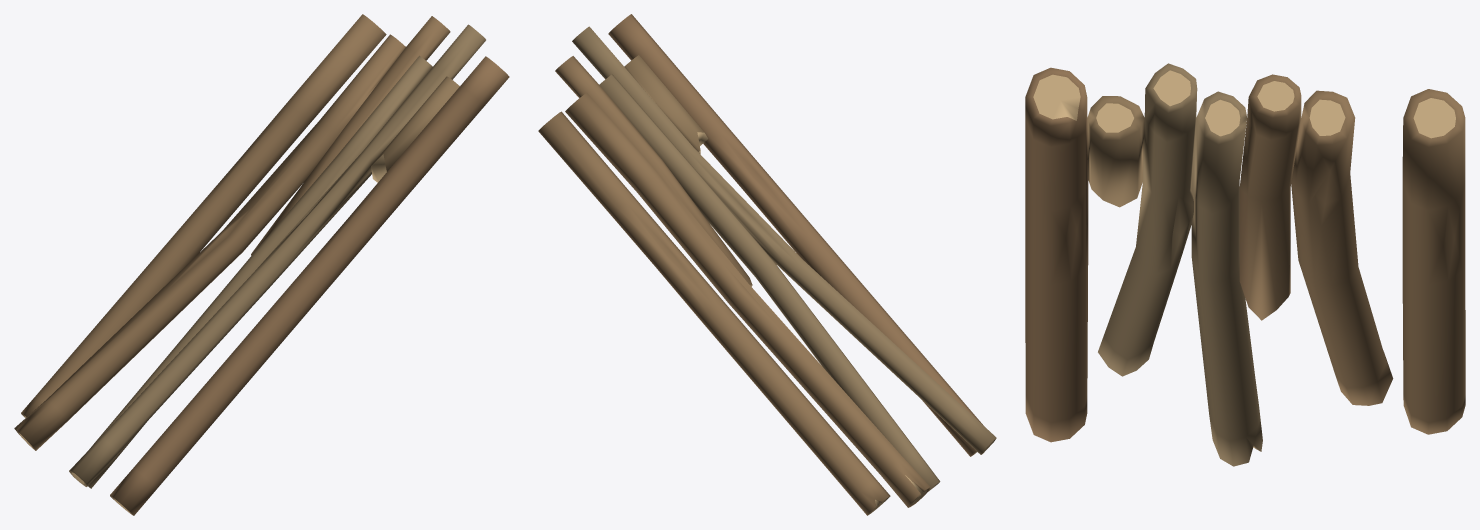
The model's file is rpgpp_av_roof_01_9x4x3_half_a.gltf.
3 renders of one model, left to right at view 1: azimuth 30°, elevation 25°; view 2: azimuth 150°, elevation 25°; view 3: azimuth 270°, elevation 25°, orthographic. The views are drawn at different scales.
Parts seen in each view (by area): view 1: rpgpp_av_roof_01_9x4x3_half_a; view 2: rpgpp_av_roof_01_9x4x3_half_a; view 3: rpgpp_av_roof_01_9x4x3_half_a.
Boxes of the visible parts, bbox=[...] form: rpgpp_av_roof_01_9x4x3_half_a: bbox=[14, 14, 509, 515]; rpgpp_av_roof_01_9x4x3_half_a: bbox=[538, 14, 996, 515]; rpgpp_av_roof_01_9x4x3_half_a: bbox=[1025, 63, 1465, 466].
Size of the model in its own units: 0.0645 by 0.056 by 0.03.
1 material, 1 textured.
